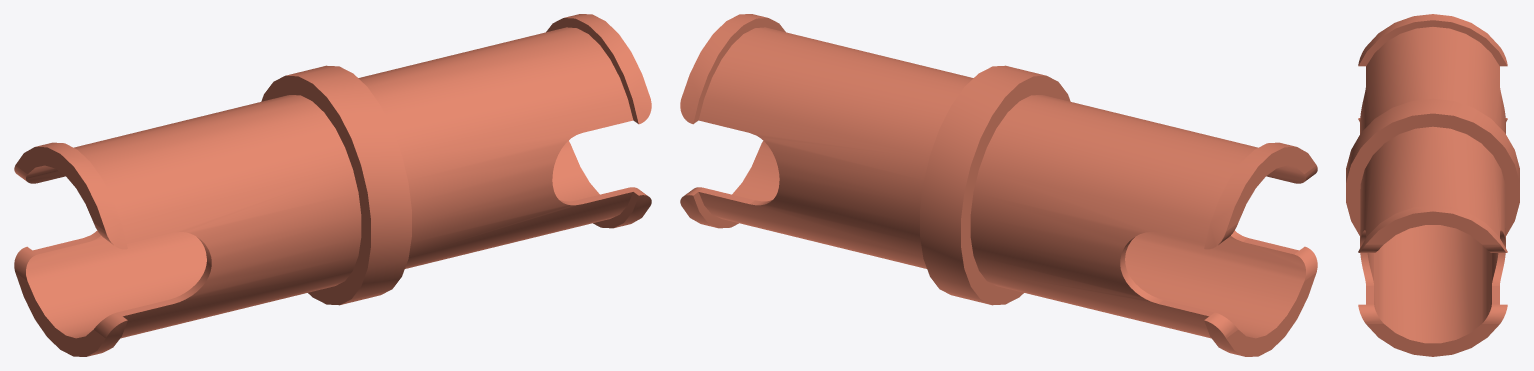
The picture shows the model from 3 angles, left to right: view 1: azimuth 30°, elevation 25°; view 2: azimuth 150°, elevation 25°; view 3: azimuth 270°, elevation 25°; orthographic projection. The views are drawn at different scales.
Parts seen in each view (by area): view 1: [pivoted]; view 2: [pivoted]; view 3: [pivoted].
Boxes of the visible parts, x1=… form: [pivoted]: x1=14, y1=14, x2=651, y2=356; [pivoted]: x1=680, y1=14, x2=1317, y2=356; [pivoted]: x1=1346, y1=14, x2=1519, y2=356.
Bounding box in the file's own units: 1.6 × 0.6 × 0.5956.
